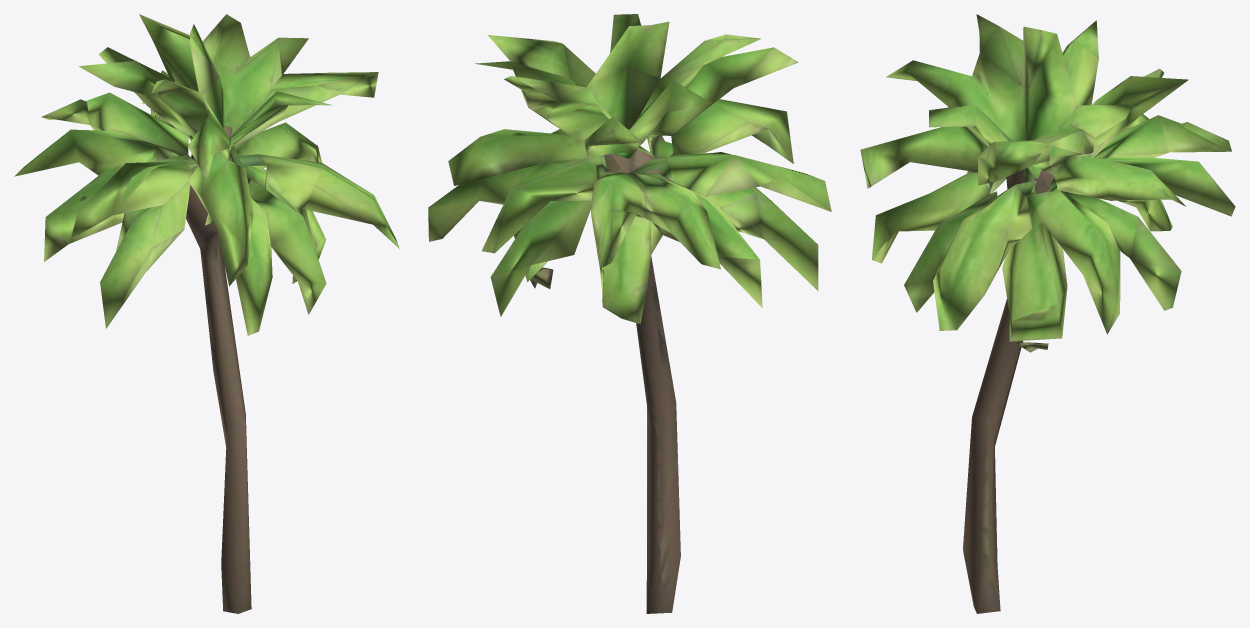
Rendered from palm_a_far.glb.
The picture shows the model from 3 angles, left to right: view 1: azimuth 30°, elevation 25°; view 2: azimuth 150°, elevation 25°; view 3: azimuth 270°, elevation 25°; orthographic projection. The views are drawn at different scales.
Visible parts, largest first — view 1: body; view 2: body; view 3: body.
Boxes of the visible parts, left/top/right/bottom form: body: left=14, top=14, right=399, bottom=613; body: left=428, top=14, right=831, bottom=613; body: left=860, top=14, right=1235, bottom=613.
Size of the model in its own units: 4.88 by 8.36 by 4.97.
Materials: 2 (2 with a texture image).
